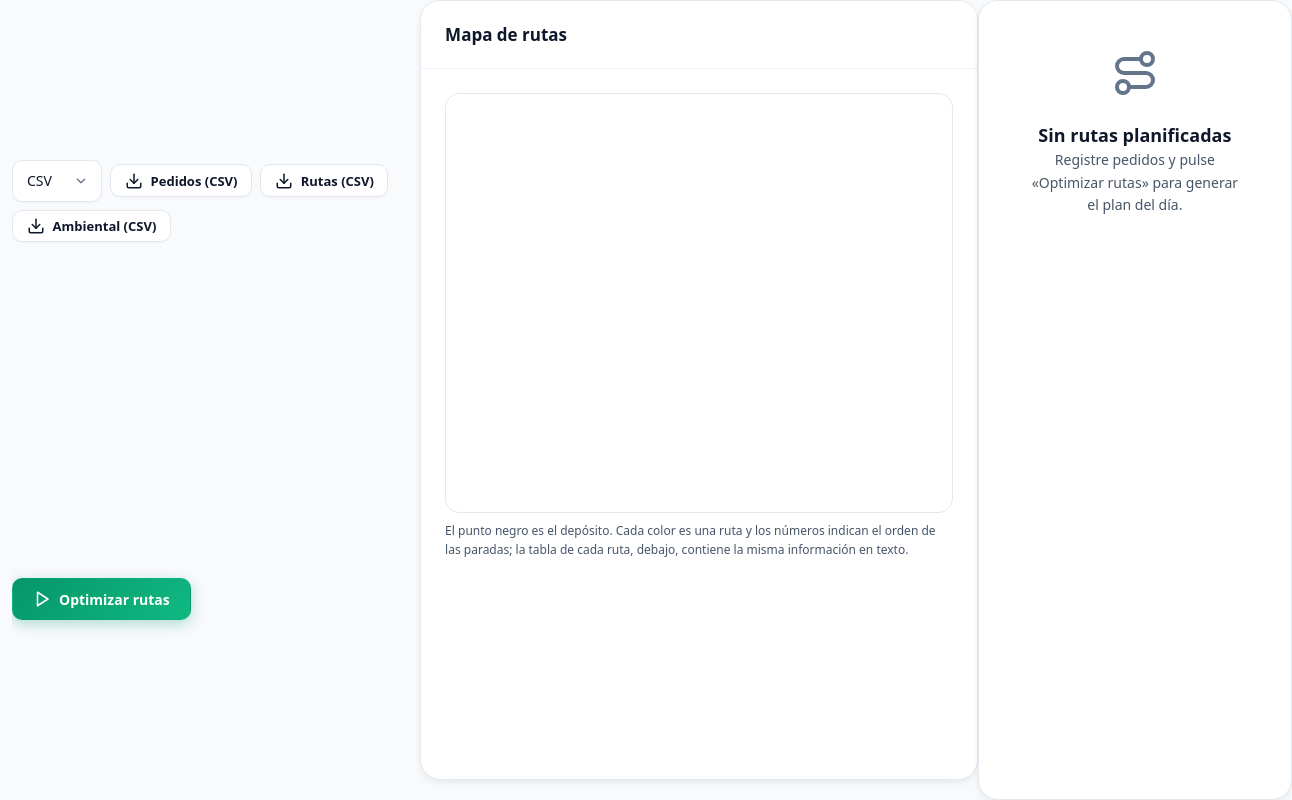
Test: RutasPage › informa si no se pudo descargar el reporte
Click the button "Rutas (CSV)" at [324, 181], box top-left (260, 164), bottom-right (388, 197)
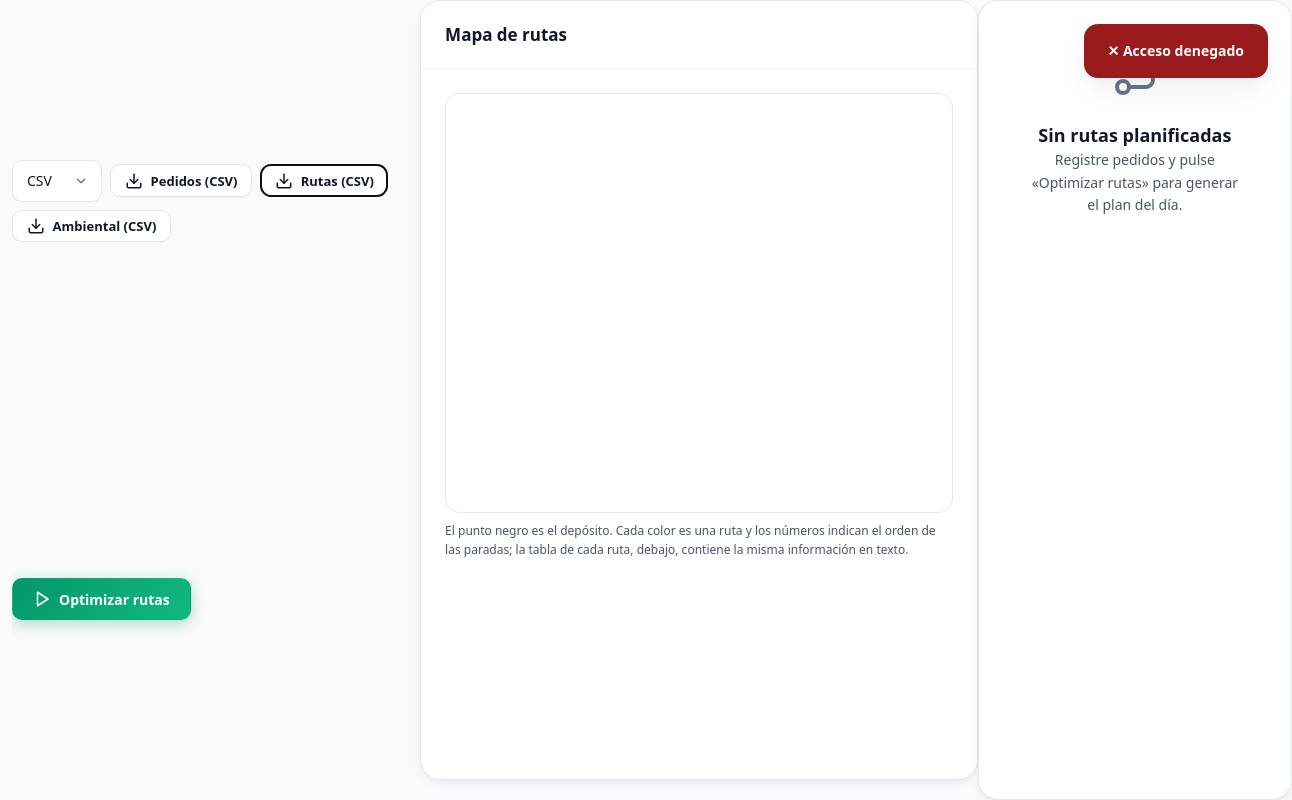
expect the text "✕ Acceso denegado" is shown: met, box top-left (1084, 24), bottom-right (1268, 78)
